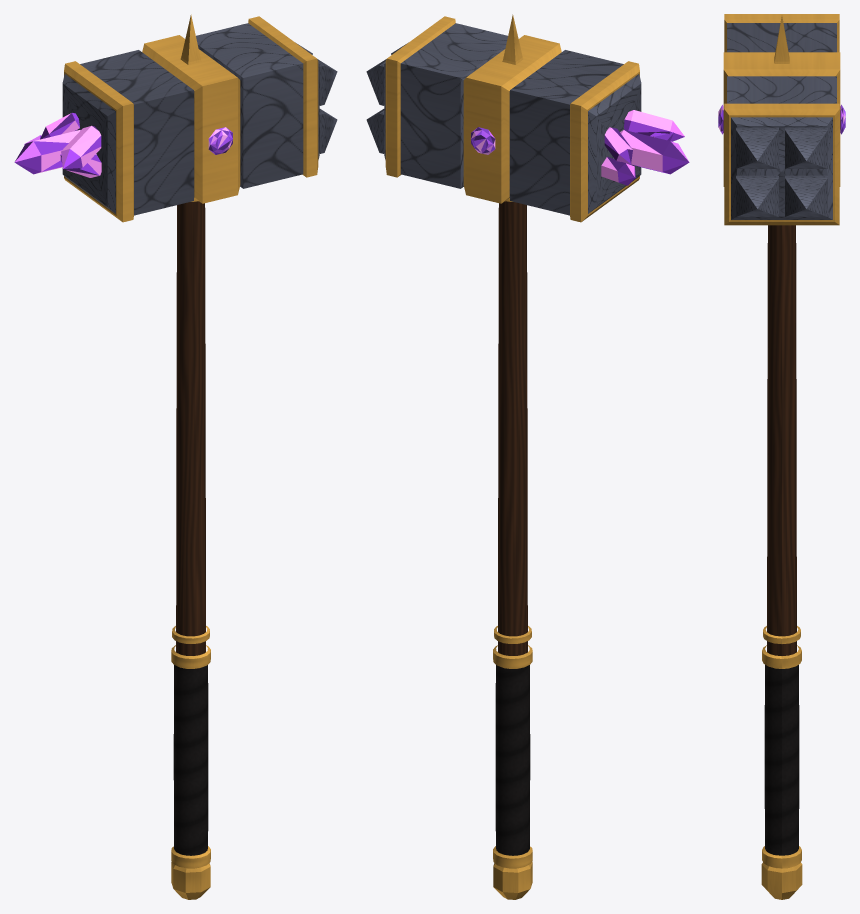
Rendered from DuskforgedWarhammer.glb.
The picture shows the model from 3 angles, left to right: view 1: azimuth 30°, elevation 25°; view 2: azimuth 150°, elevation 25°; view 3: azimuth 270°, elevation 25°; orthographic projection.
Visible parts, largest first — view 1: DuskforgedWarhammer; view 2: DuskforgedWarhammer; view 3: DuskforgedWarhammer.
Part boxes in pixels (x1,y1,x2,y2): DuskforgedWarhammer: (14,14,337,899); DuskforgedWarhammer: (366,14,689,899); DuskforgedWarhammer: (718,14,845,899).
Bounding box in the file's own units: 1.76 × 4.77 × 0.6229.
Materials: 1 (1 with a texture image).
